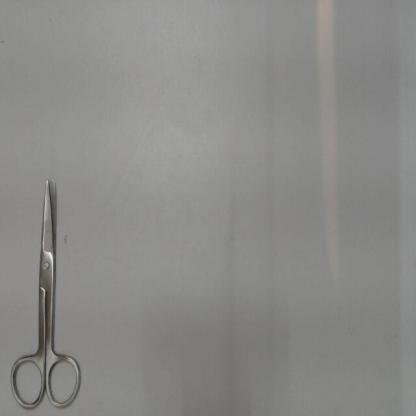Dressing Scissors: (2, 162, 90, 414)
